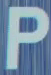Parking: (3, 1, 47, 67)
